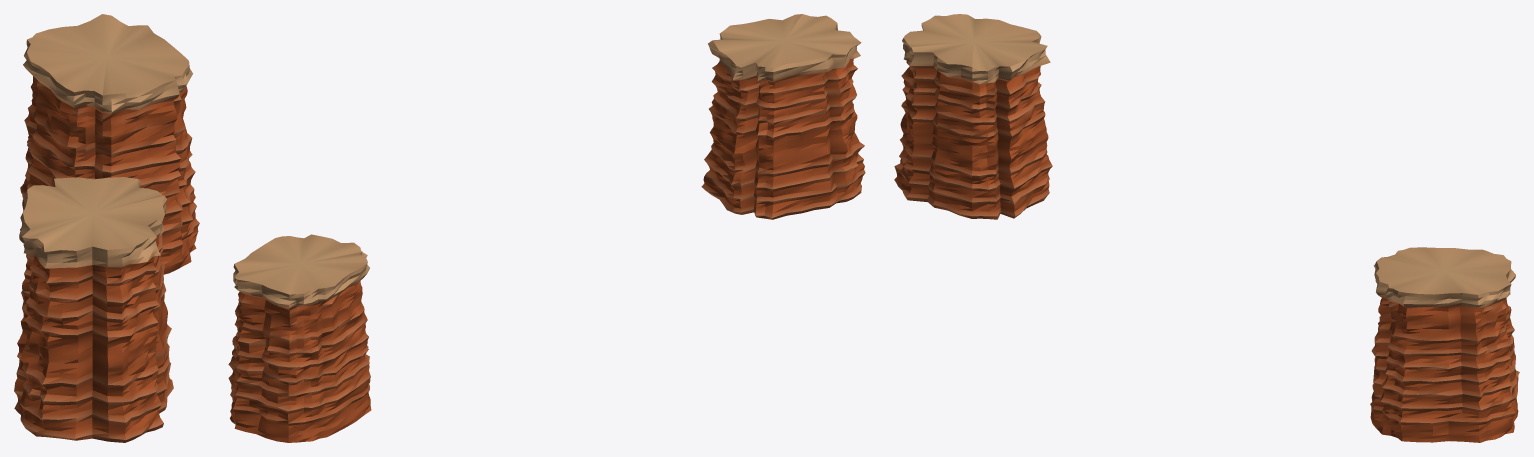
File: terrain-085.glb
3 renders of one model, left to right at view 1: azimuth 30°, elevation 25°; view 2: azimuth 150°, elevation 25°; view 3: azimuth 270°, elevation 25°, orthographic. The views are drawn at different scales.
Parts seen in each view (by area): view 1: terrain-085; view 2: terrain-085; view 3: terrain-085.
Part boxes in pixels (left/top/right/bottom): terrain-085: left=14, top=14, right=199, bottom=442; terrain-085: left=228, top=14, right=865, bottom=442; terrain-085: left=894, top=14, right=1519, bottom=442.
Bounding box in the file's own units: 120 × 81.42 × 179.
